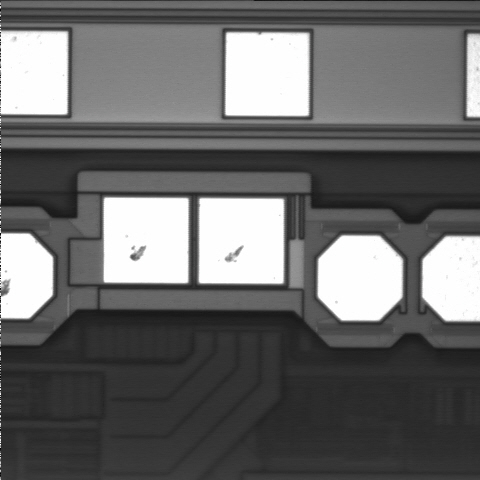pad: (199, 198, 284, 284), (104, 198, 188, 283), (318, 236, 402, 320), (225, 33, 309, 116)
